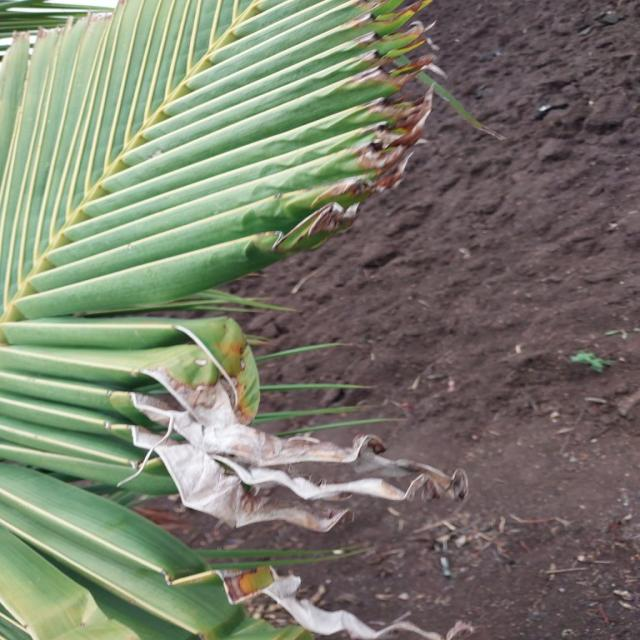leaf rot: (64, 323, 446, 550), (215, 0, 450, 284)
